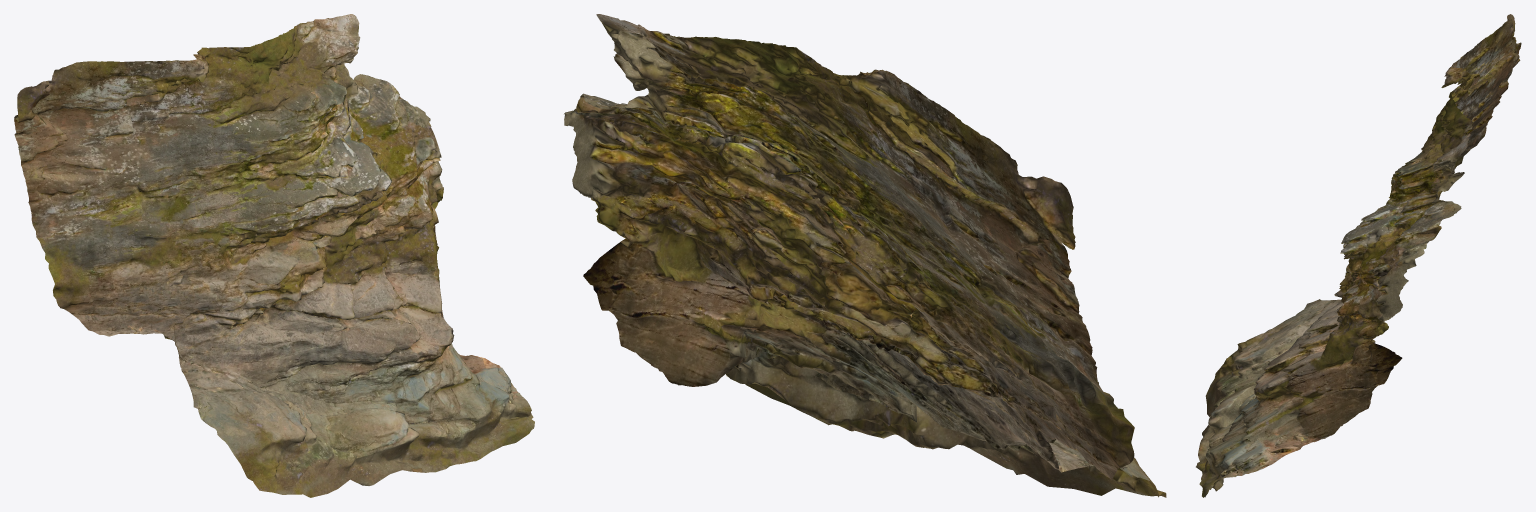
3 renders of one model, left to right at view 1: azimuth 30°, elevation 25°; view 2: azimuth 150°, elevation 25°; view 3: azimuth 270°, elevation 25°, orthographic. The views are drawn at different scales.
Visible parts, largest first — view 1: rock_face_02; view 2: rock_face_02; view 3: rock_face_02.
Boxes of the visible parts, x1,y1,x2,y2 form: rock_face_02: (14,14,534,497); rock_face_02: (564,14,1166,497); rock_face_02: (1196,14,1521,497).
Size of the model in its own units: 2.71 by 2.47 by 2.13.
Materials: 1 (1 with a texture image).
